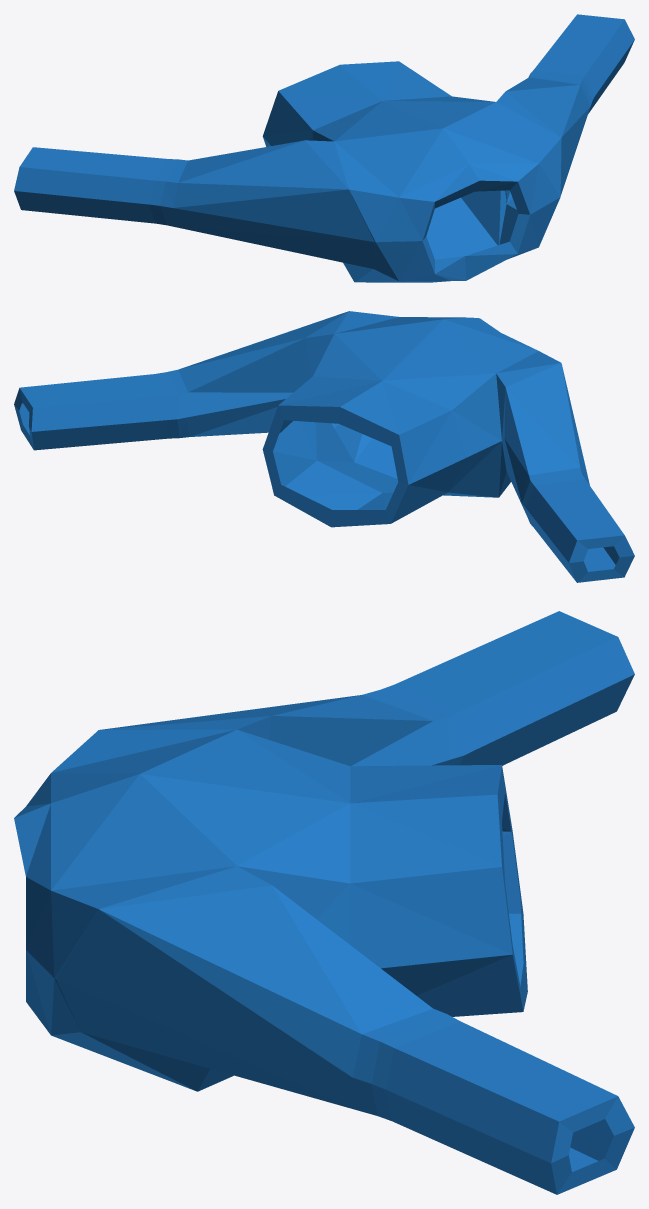
File: longsleeve.obj
3 views of the same model, one above another, from view 1: azimuth 30°, elevation 25°; view 2: azimuth 150°, elevation 25°; view 3: azimuth 270°, elevation 25° (orthographic). The views are drawn at different scales.
Visible parts, largest first — view 1: shirt2; view 2: shirt2; view 3: shirt2.
Part boxes in pixels (<box>): shirt2: <box>14,14,634,282</box>; shirt2: <box>14,311,634,582</box>; shirt2: <box>14,611,634,1194</box>.
Size of the model in its own units: 6.42 by 1.61 by 3.21.
